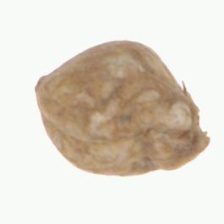L2: (34, 40, 210, 177)
